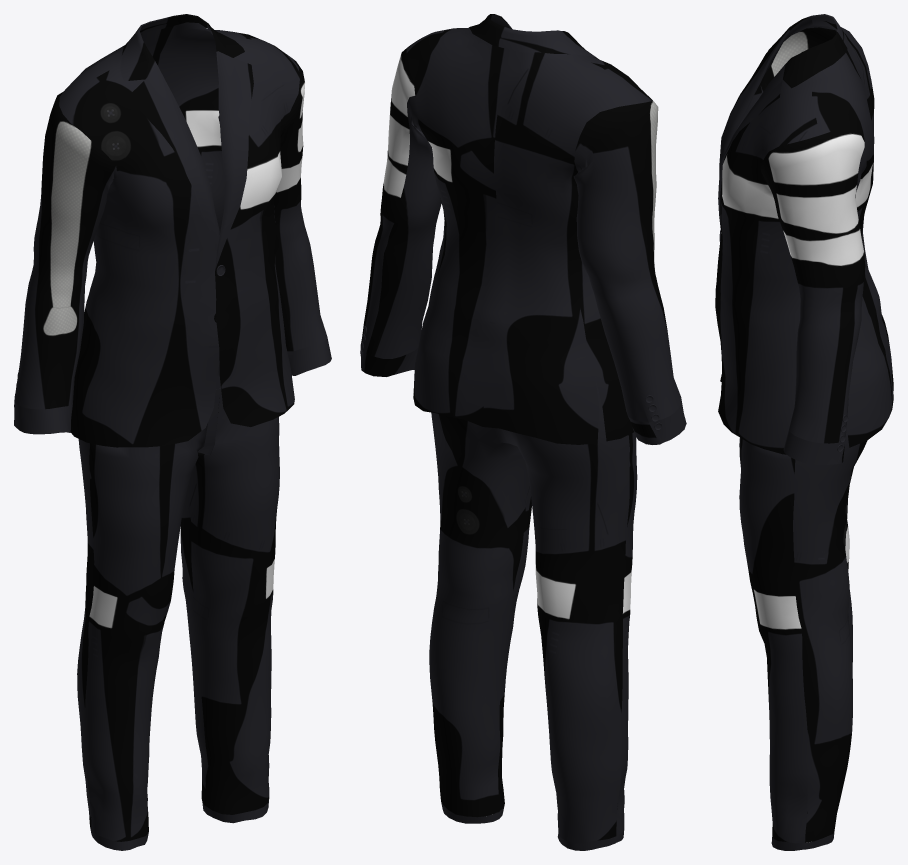
File: blazer_trousers.glb
3 views of the same model, side by side, from view 1: azimuth 30°, elevation 25°; view 2: azimuth 150°, elevation 25°; view 3: azimuth 270°, elevation 25° (orthographic). The views are drawn at different scales.
Visible parts, largest first — view 1: all, all_two; view 2: all, all_two; view 3: all, all_two.
Boxes of the visible parts, bbox=[...] form: all: bbox=[14, 14, 331, 447]; all_two: bbox=[77, 363, 279, 850]; all: bbox=[360, 14, 686, 444]; all_two: bbox=[429, 375, 637, 850]; all: bbox=[715, 14, 893, 464]; all_two: bbox=[739, 426, 867, 850].
Size of the model in its own units: 0.3223 by 0.7986 by 0.1639.
Materials: 2 (2 with a texture image).
